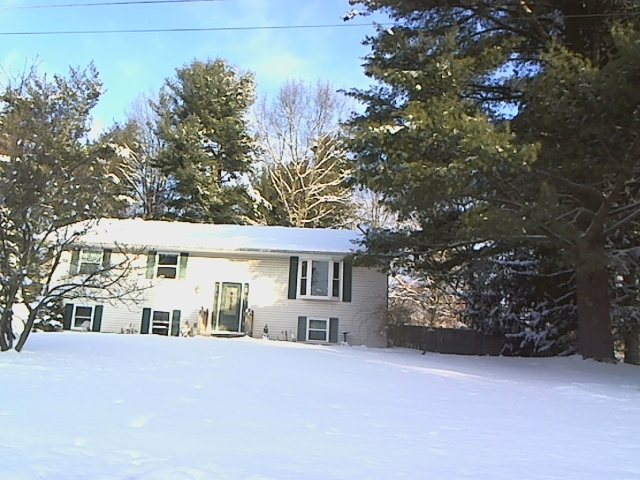Unploughed: (196, 281, 253, 451)
